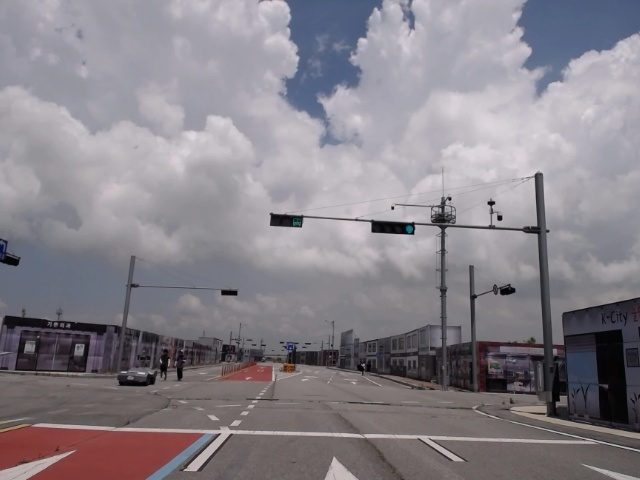straight_green_4: (372, 221, 416, 234)
